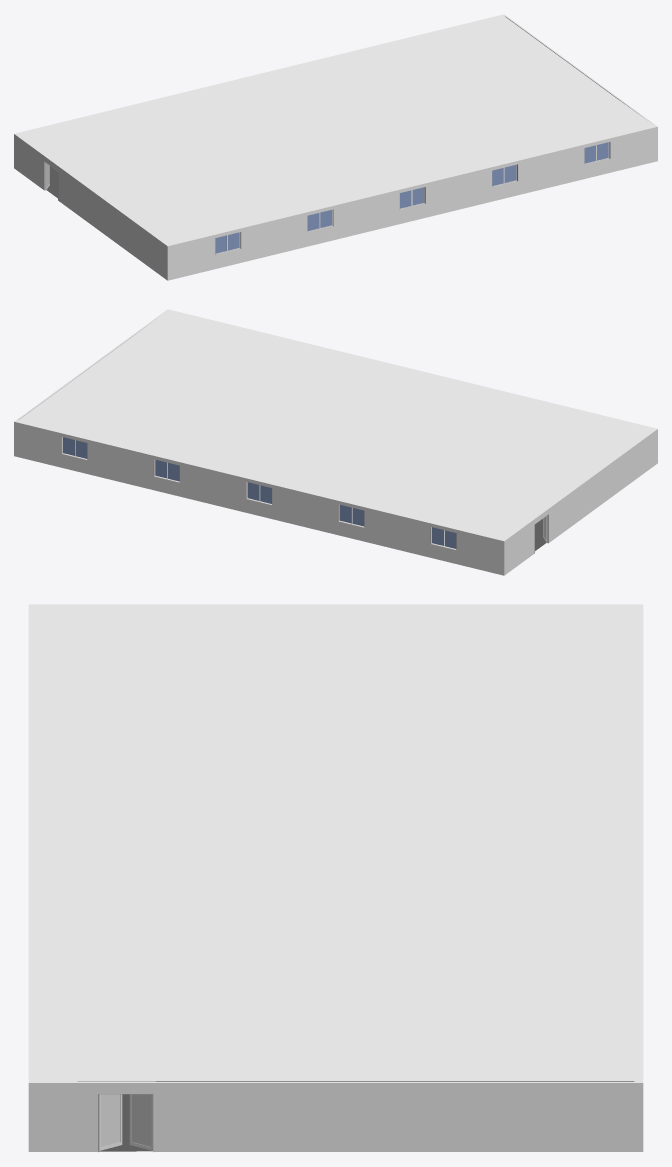
File: edificio_ejemplo.FBX
3 renders of one model, top to bottom at view 1: azimuth 30°, elevation 25°; view 2: azimuth 150°, elevation 25°; view 3: azimuth 270°, elevation 25°, orthographic. The views are drawn at different scales.
Visible parts, largest first — view 1: Techo, Pared, Finestra_Doppia001, Finestra_Doppia002, Finestra_Doppia, Finestra_Doppia003, Finestra_Doppia004; view 2: Techo, Pared, Finestra_Doppia006, Finestra_Doppia007, Finestra_Doppia005, Finestra_Doppia008, Finestra_Doppia009; view 3: Techo, Pared, Porta_Doppia001, Suelo.
Part boxes in pixels (x1,y1,x2,y2): Techo: [18, 16, 653, 243]; Pared: [14, 14, 657, 280]; Finestra_Doppia001: [307, 209, 333, 232]; Finestra_Doppia002: [399, 187, 425, 210]; Finestra_Doppia: [215, 232, 241, 255]; Finestra_Doppia003: [492, 164, 518, 187]; Finestra_Doppia004: [584, 141, 610, 165]; Techo: [18, 311, 653, 538]; Pared: [14, 309, 657, 575]; Finestra_Doppia006: [338, 504, 364, 527]; Finestra_Doppia007: [246, 482, 272, 505]; Finestra_Doppia005: [430, 527, 456, 550]; Finestra_Doppia008: [153, 459, 179, 482]; Finestra_Doppia009: [61, 436, 87, 460]; Techo: [37, 605, 634, 1081]; Pared: [28, 604, 643, 1151]; Porta_Doppia001: [98, 1093, 153, 1152]; Suelo: [78, 1081, 634, 1151].
Bounding box in the file's own units: 3726 × 2020 × 321.
